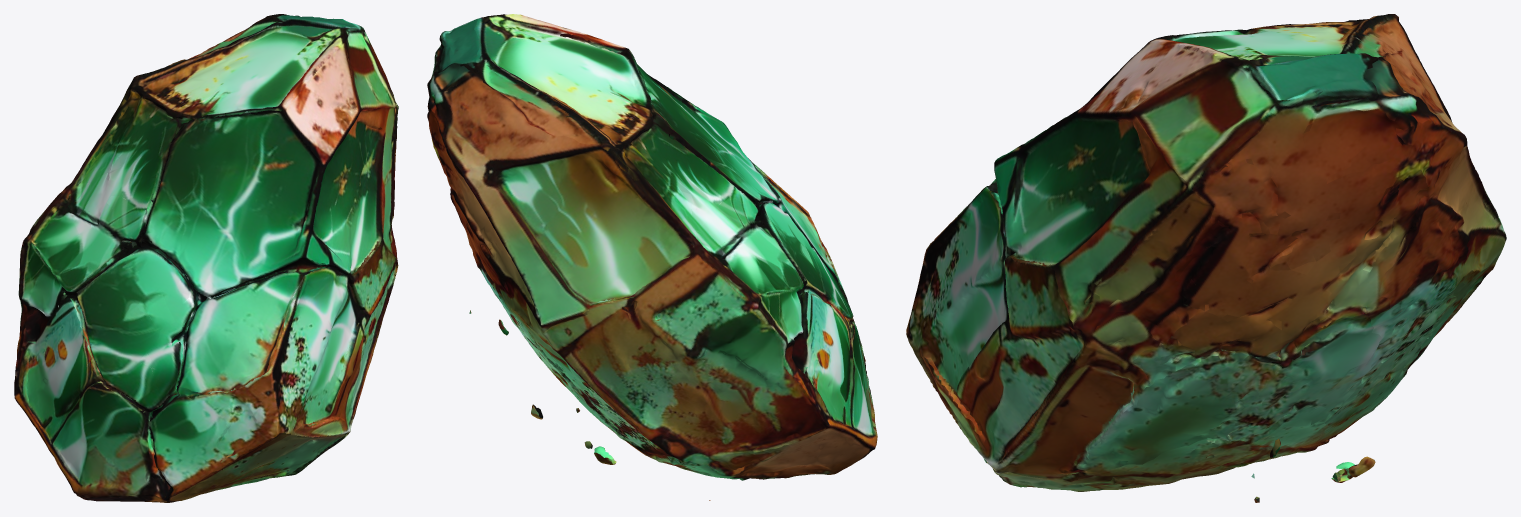
Rendered from equipment_material_2.glb.
3 renders of one model, left to right at view 1: azimuth 30°, elevation 25°; view 2: azimuth 150°, elevation 25°; view 3: azimuth 270°, elevation 25°, orthographic. The views are drawn at different scales.
Parts seen in each view (by area): view 1: tmpfyc2f308.ply; view 2: tmpfyc2f308.ply; view 3: tmpfyc2f308.ply.
Boxes of the visible parts, left/top/right/bottom form: tmpfyc2f308.ply: left=14, top=14, right=398, bottom=502; tmpfyc2f308.ply: left=427, top=14, right=877, bottom=500; tmpfyc2f308.ply: left=906, top=14, right=1506, bottom=502.
Bounding box in the file's own units: 1.98 × 2 × 1.98.
1 material, 1 textured.
